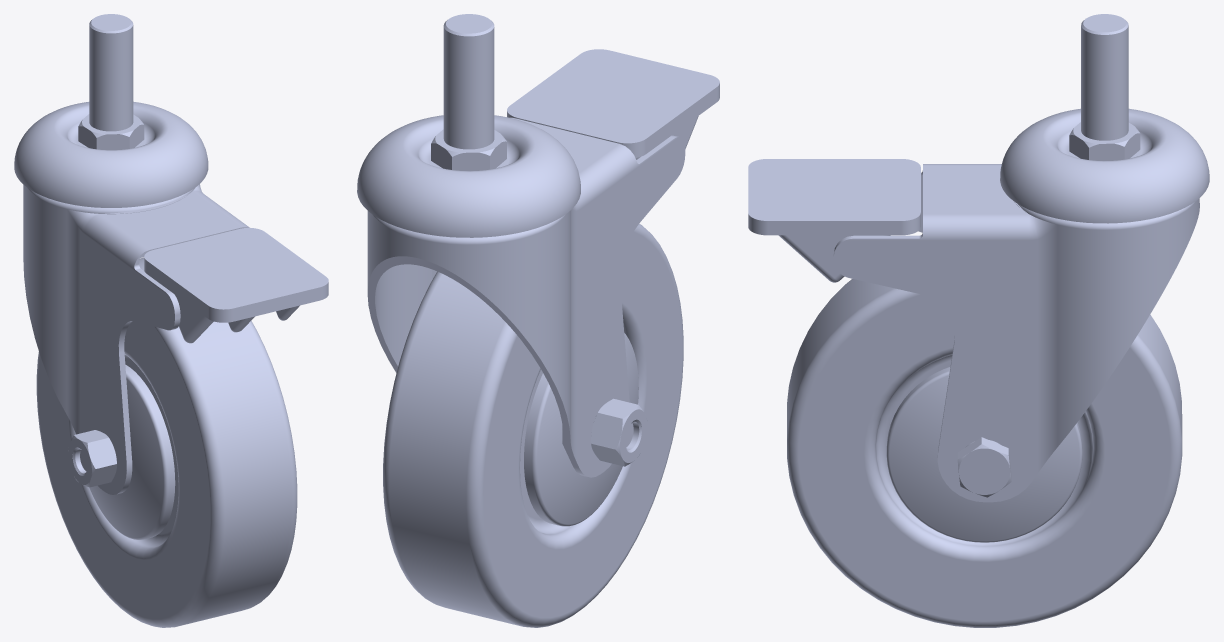
Rendered from back_right_wheel.dae.
3 renders of one model, left to right at view 1: azimuth 30°, elevation 25°; view 2: azimuth 150°, elevation 25°; view 3: azimuth 270°, elevation 25°, orthographic. The views are drawn at different scales.
Visible parts, largest first — view 1: Body5, Body1, Body4, Body10, Body7, Body2, Body9; view 2: Body5, Body1, Body4, Body10, Body2, Body7, Body9; view 3: Body5, Body1, Body4, Body10, Body6, Body2, Body8.
Boxes of the visible parts, x1=… form: Body5: x1=36, y1=257, x2=297, y2=627; Body1: x1=23, y1=184, x2=249, y2=494; Body4: x1=14, y1=101, x2=208, y2=207; Body10: x1=144, y1=228, x2=328, y2=343; Body7: x1=89, y1=364, x2=175, y2=539; Body2: x1=78, y1=14, x2=144, y2=150; Body9: x1=68, y1=430, x2=116, y2=487; Body5: x1=383, y1=223, x2=683, y2=627; Body1: x1=367, y1=117, x2=685, y2=477; Body4: x1=357, y1=115, x2=580, y2=237; Body10: x1=507, y1=49, x2=719, y2=159; Body2: x1=431, y1=14, x2=506, y2=170; Body7: x1=524, y1=333, x2=638, y2=526; Body9: x1=591, y1=398, x2=647, y2=466; Body5: x1=787, y1=279, x2=1182, y2=627; Body1: x1=833, y1=164, x2=1199, y2=502; Body4: x1=1000, y1=108, x2=1209, y2=223; Body10: x1=748, y1=159, x2=920, y2=282; Body6: x1=886, y1=367, x2=1082, y2=542; Body2: x1=1069, y1=14, x2=1140, y2=160; Body8: x1=957, y1=437, x2=1011, y2=497.
Bounding box in the file's own units: 0.0539 × 0.1166 × 0.1634.
